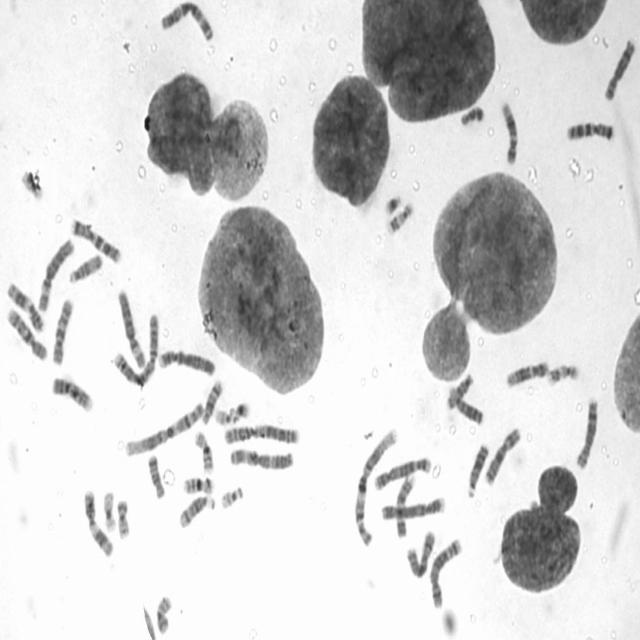A1: (351, 421, 399, 549), (122, 396, 205, 458)
A2: (111, 308, 161, 388), (221, 418, 302, 446)
A3: (158, 0, 215, 42), (227, 443, 296, 472)
B4: (378, 492, 447, 521), (156, 344, 216, 377)
B5: (427, 533, 464, 610), (371, 452, 433, 492)
C10: (4, 302, 50, 362), (49, 293, 75, 367)
C11: (81, 484, 115, 558), (5, 276, 46, 334)
C12: (503, 355, 551, 389), (498, 96, 520, 166)
C6: (35, 232, 76, 313), (116, 284, 148, 370)
C7: (68, 212, 124, 264), (564, 115, 616, 142)
C8: (602, 32, 638, 102), (574, 393, 600, 470)
C9: (49, 370, 95, 414), (392, 469, 418, 538)
D13: (446, 382, 485, 427), (465, 437, 491, 499)
D14: (177, 490, 217, 530), (200, 374, 224, 425)
D15: (66, 248, 104, 284), (444, 367, 475, 411)
E16: (192, 427, 216, 474), (180, 472, 216, 496)
E17: (384, 197, 415, 236), (545, 357, 581, 387)
E18: (145, 449, 167, 500), (458, 100, 487, 128)
F19: (18, 165, 45, 201), (100, 485, 117, 533)
F20: (153, 590, 173, 636), (115, 495, 132, 540)
G21: (228, 396, 252, 423), (381, 189, 404, 217)
G22: (218, 481, 245, 510), (212, 402, 236, 426)
X: (482, 422, 523, 486), (403, 524, 437, 579)
